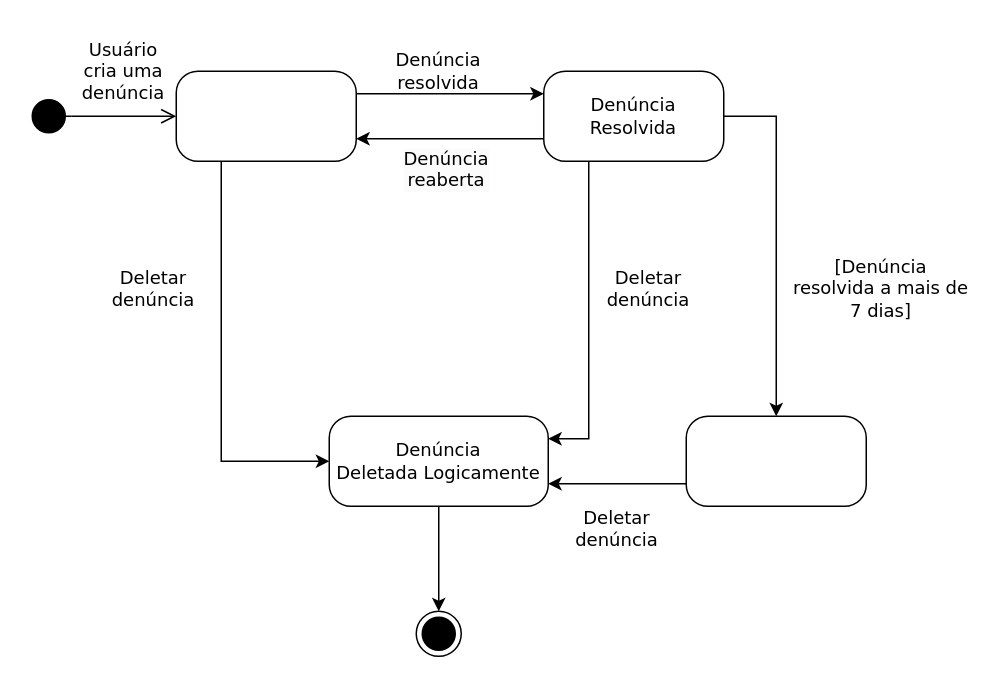
The diagram is 998 pixels wide and 683 high, and some of its shapes have lost their labels. The shapes that lost their labels are listed below. From the top down, each one's box as (x1, y1, x2, y2) in pixels, then its label:
(175, 70, 356, 161): Denúncia Não Resolvida
(685, 415, 866, 506): Denúncia Oculta
